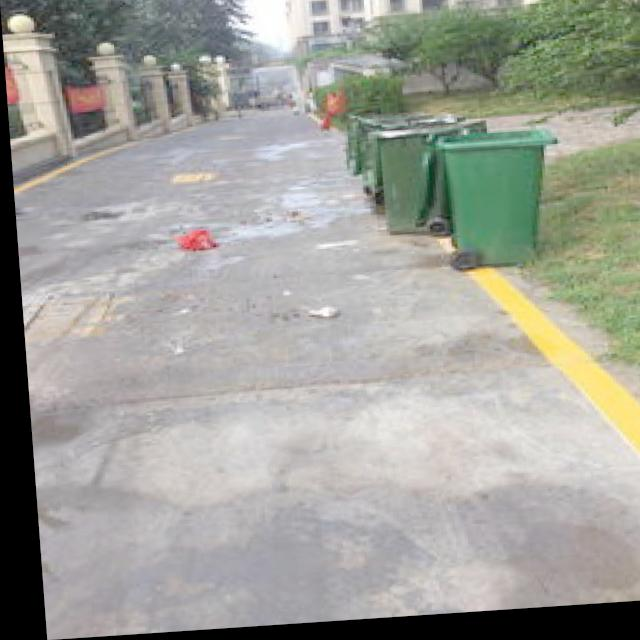garbage: (165, 229, 206, 252)
garbage_bin: (429, 133, 558, 275), (368, 127, 447, 241)
